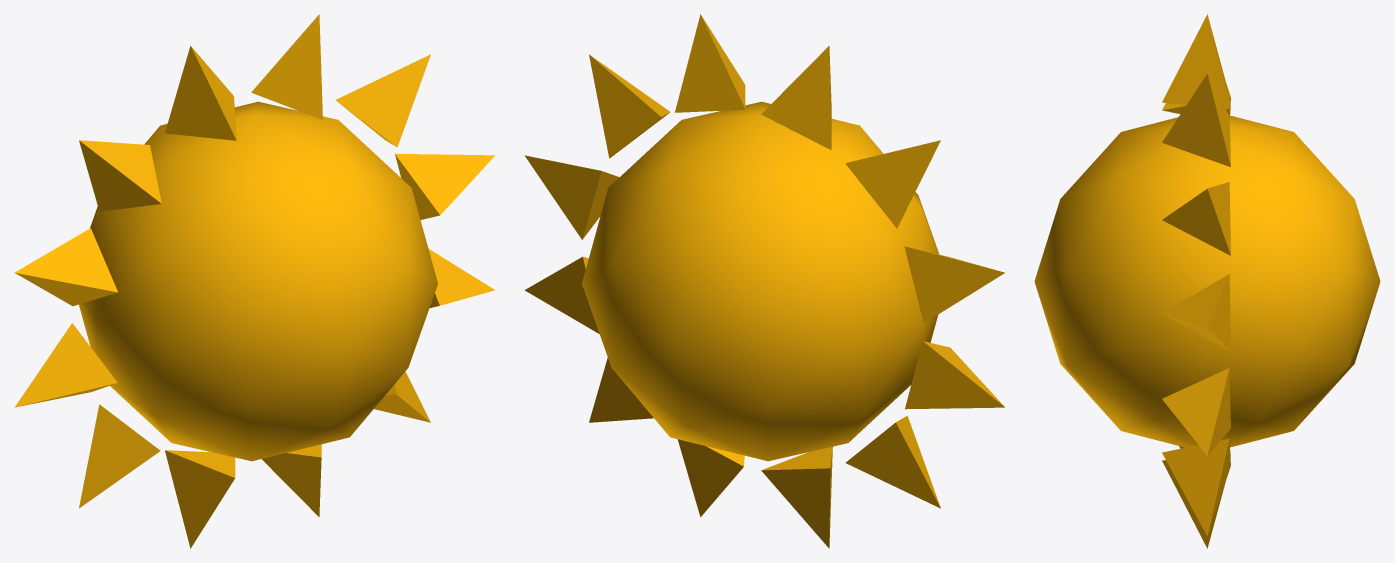
The model's file is Sun_01.fbx.
3 renders of one model, left to right at view 1: azimuth 30°, elevation 25°; view 2: azimuth 150°, elevation 25°; view 3: azimuth 270°, elevation 25°, orthographic. The views are drawn at different scales.
Parts seen in each view (by area): view 1: Sun; view 2: Sun; view 3: Sun.
Boxes of the visible parts, x1=… form: Sun: x1=14, y1=14, x2=494, y2=548; Sun: x1=524, y1=14, x2=1004, y2=548; Sun: x1=1034, y1=14, x2=1380, y2=548.
Bounding box in the file's own units: 303 × 303 × 200.
